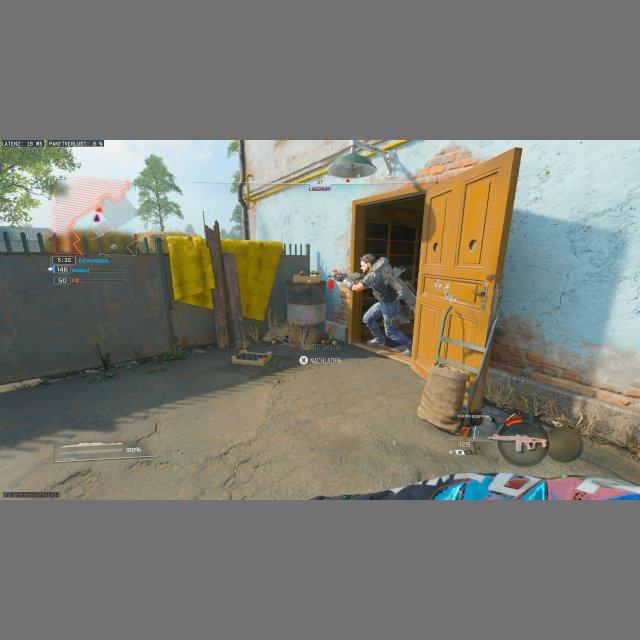head: (360, 253, 375, 271)
player: (335, 253, 411, 350)
